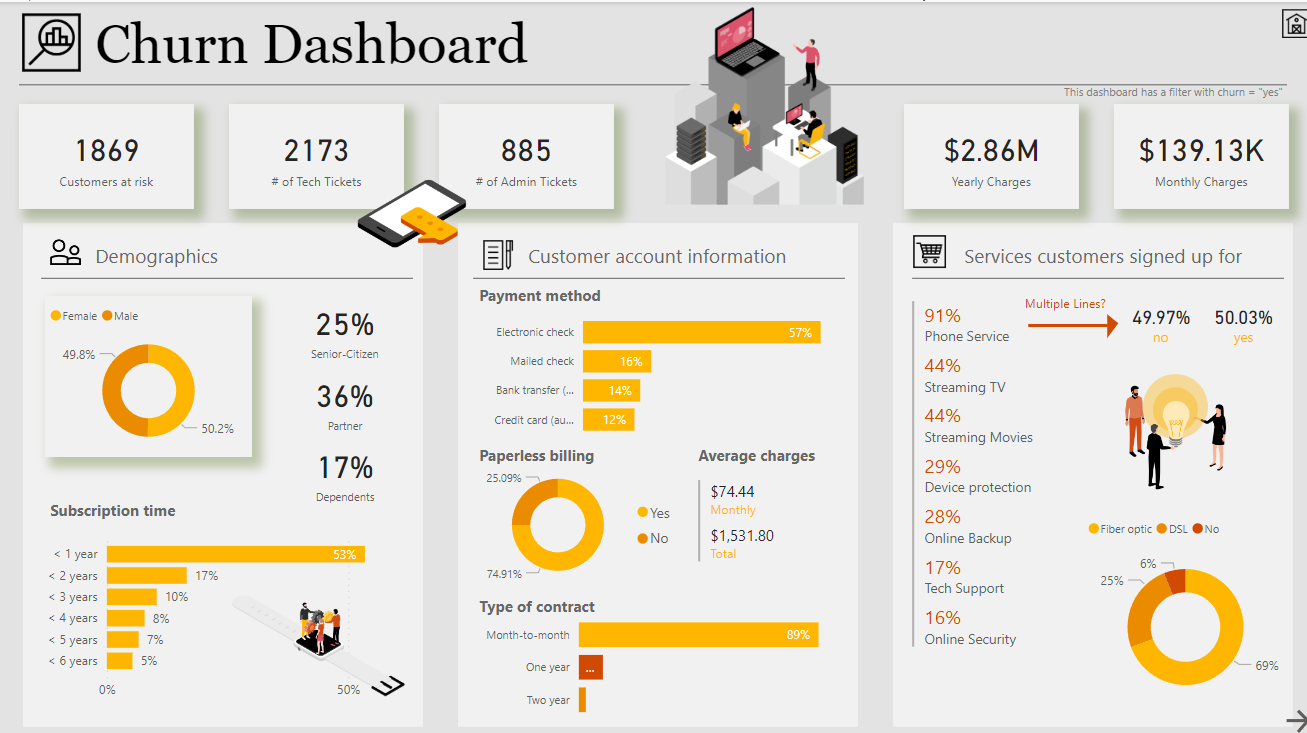

Layout of this report page (visuals, bound fields, positions):
{"tool":"powerbi","page":{"name":"Churn","canvas":[1280,720],"ordinal":1},"visuals":[{"type":"textbox","box":[87.7,4.9,1173.8,75],"z":0},{"type":"basicShape","box":[8.7,60.7,1253,40.5],"z":1000},{"type":"basicShape","box":[18.3,210,396.8,499.9],"z":2000},{"type":"card","fields":{"Values":["CountNonNull(churn.customerID)"]},"box":[18.5,99.4,170,102.3],"z":3000},{"type":"basicShape","box":[441.6,210,396.8,499.9],"z":4000},{"type":"basicShape","box":[864.9,210,396.8,499.9],"z":5000},{"type":"textbox","box":[508.5,228.6,314.9,35.6],"z":6000},{"type":"basicShape","box":[450.7,248.9,381.4,39.5],"z":7000},{"type":"image","box":[461.3,226.3,47.2,39.5],"z":8000},{"type":"textbox","box":[932.7,228.6,314.9,35.6],"z":9000},{"type":"basicShape","box":[877.4,248.9,381.4,39.5],"z":10000},{"type":"textbox","box":[88,228.6,314.9,35.6],"z":11000},{"type":"basicShape","box":[30.2,248.9,381.4,39.5],"z":12000},{"type":"image","box":[883.2,220.6,42.4,43.3],"z":13000},{"type":"image","box":[43.3,220.6,40.5,44.3],"z":14000},{"type":"donutChart","fields":{"Category":["churn.gender"],"Y":["CountNonNull(churn.gender)"]},"box":[43.8,286,201.3,156.6],"z":15000},{"type":"card","fields":{"Values":["churn.SeniorCitizen in %"]},"box":[271.4,268.7,128.1,100.2],"z":16000},{"type":"card","fields":{"Values":["churn.Partner in %"]},"box":[271.4,338.1,128.4,100.2],"z":17000},{"type":"card","fields":{"Values":["churn.Dependents in %"]},"box":[271.4,407.5,128.4,100.2],"z":18000},{"type":"clusteredBarChart","fields":{"Category":["churn.Contract"],"Y":["CountNonNull(churn.Contract)"]},"box":[461.3,577.9,370.8,131.9],"z":19000},{"type":"clusteredBarChart","fields":{"Y":["CountNonNull(churn.PaymentMethod)"],"Category":["churn.PaymentMethod"]},"box":[461.3,286,370.8,148.3],"z":20000},{"type":"textbox","box":[461.3,269.7,314.9,35.6],"z":21000},{"type":"textbox","box":[461.3,424.7,204.2,35.6],"z":22000},{"type":"donutChart","fields":{"Category":["churn.PaperlessBilling"],"Y":["CountNonNull(churn.PaperlessBilling)"]},"box":[461.3,438.2,204.2,139.7],"z":23000},{"type":"multiRowCard","fields":{"Values":["Avg(churn.MonthlyCharges)","Avg(churn.TotalCharges)"]},"box":[674.2,460.4,149.3,95.3],"z":24000},{"type":"textbox","box":[461.3,572.1,314.9,35.6],"z":25000},{"type":"donutChart","fields":{"Category":["churn.InternetService"],"Y":["Divide(CountNonNull(churn.InternetService), ScopedEval(CountNonNull(churn.InternetService), []))"]},"box":[1053.4,493.1,199.4,202.3],"z":26000},{"type":"card","fields":{"Values":["churn.Multiple Lines in %"]},"box":[1172.8,276.4,72.2,62.6],"z":27000},{"type":"card","fields":{"Values":["churn.Multiple lines no in %"]},"box":[1093.1,276.4,72.2,61.6],"z":28000},{"type":"textbox","box":[971.7,278.2,129.4,27.2],"z":29000},{"type":"textbox","box":[1092.2,311,73.2,35.6],"z":30000},{"type":"textbox","box":[1172.8,311,73.2,35.6],"z":31000},{"type":"textbox","box":[674.2,424.7,148.3,35.6],"z":32000},{"type":"multiRowCard","fields":{"Values":["churn.Phone Service in %","churn.Streaming TV in %","churn.Streaming Movies in %","churn.Device protection in %","churn.Online Bacup in %","churn.Tech Support in %","churn.Online Sec. in %"]},"box":[882.2,286,165.3,414.3],"z":33000},{"type":"basicShape","box":[990.2,300.5,97.3,28.2],"z":34000},{"type":"basicShape","box":[1063.1,296.7,37.9,32.1],"z":35000},{"type":"clusteredBarChart","fields":{"Y":["CountNonNull(churn.Churn)"],"Category":["churn.Loyalty"]},"box":[37,507.7,365.7,179],"z":36000},{"type":"textbox","box":[43.8,478.5,314.2,35],"z":37000},{"type":"image","box":[1048.2,356.5,190.9,121.8],"z":38000},{"type":"actionButton","box":[1246.1,680.1,31.6,39.5],"z":39000},{"type":"image","box":[16.6,4.9,67.2,68.2],"z":40000},{"type":"card","fields":{"Values":["Sum(churn.MonthlyCharges)"]},"box":[1083.9,99.4,170,102.3],"z":41000},{"type":"image","box":[634.9,0,216.9,202.2],"z":42000},{"type":"image","box":[221.1,556.2,178.3,139.3],"z":43000},{"type":"card","fields":{"Values":["Sum(churn.numTechTickets)"]},"box":[222.8,99.4,170,102.3],"z":44000},{"type":"card","fields":{"Values":["Sum(churn.numAdminTickets)"]},"box":[427.1,99.4,170,102.3],"z":45000},{"type":"card","fields":{"Values":["Sum(churn.TotalCharges)"]},"box":[879.7,99.4,170,102.3],"z":46000},{"type":"textbox","box":[897,72.3,355.9,30.5],"z":47000},{"type":"image","box":[341.9,151,115.9,108.1],"z":48000},{"type":"image","box":[1242,0,38,42.9],"z":49000}]}

Visuals, with their boxes in screenshot pixels (x1, y1, x2, y2), scaled from the page's 1280x720 canvas onto the 1307x733 screenshot:
textbox: x1=90 y1=5 x2=1288 y2=81
basicShape: x1=9 y1=62 x2=1288 y2=103
basicShape: x1=19 y1=214 x2=424 y2=723
card - CountNonNull(churn.customerID): x1=19 y1=101 x2=192 y2=205
basicShape: x1=451 y1=214 x2=856 y2=723
basicShape: x1=883 y1=214 x2=1288 y2=723
textbox: x1=519 y1=233 x2=841 y2=269
basicShape: x1=460 y1=253 x2=850 y2=294
image: x1=471 y1=230 x2=519 y2=271
textbox: x1=952 y1=233 x2=1274 y2=269
basicShape: x1=896 y1=253 x2=1285 y2=294
textbox: x1=90 y1=233 x2=411 y2=269
basicShape: x1=31 y1=253 x2=420 y2=294
image: x1=902 y1=225 x2=945 y2=269
image: x1=44 y1=225 x2=86 y2=270
donutChart - churn.gender x CountNonNull(churn.gender): x1=45 y1=291 x2=250 y2=451
card - churn.SeniorCitizen in %: x1=277 y1=274 x2=408 y2=376
card - churn.Partner in %: x1=277 y1=344 x2=408 y2=446
card - churn.Dependents in %: x1=277 y1=415 x2=408 y2=517
clusteredBarChart - churn.Contract x CountNonNull(churn.Contract): x1=471 y1=588 x2=850 y2=723
clusteredBarChart - CountNonNull(churn.PaymentMethod) x churn.PaymentMethod: x1=471 y1=291 x2=850 y2=442
textbox: x1=471 y1=275 x2=793 y2=311
textbox: x1=471 y1=432 x2=680 y2=469
donutChart - churn.PaperlessBilling x CountNonNull(churn.PaperlessBilling): x1=471 y1=446 x2=680 y2=588
multiRowCard - Avg(churn.MonthlyCharges) x Avg(churn.TotalCharges): x1=688 y1=469 x2=841 y2=566
textbox: x1=471 y1=582 x2=793 y2=619
donutChart - churn.InternetService x Divide(CountNonNull(churn.InternetService), ScopedEval(CountNonNull(churn.InternetService), [])): x1=1076 y1=502 x2=1279 y2=708
card - churn.Multiple Lines in %: x1=1198 y1=281 x2=1271 y2=345
card - churn.Multiple lines no in %: x1=1116 y1=281 x2=1190 y2=344
textbox: x1=992 y1=283 x2=1124 y2=311
textbox: x1=1115 y1=317 x2=1190 y2=353
textbox: x1=1198 y1=317 x2=1272 y2=353
textbox: x1=688 y1=432 x2=840 y2=469
multiRowCard - churn.Phone Service in % x churn.Streaming TV in %: x1=901 y1=291 x2=1070 y2=713
basicShape: x1=1011 y1=306 x2=1110 y2=335
basicShape: x1=1086 y1=302 x2=1124 y2=335
clusteredBarChart - CountNonNull(churn.Churn) x churn.Loyalty: x1=38 y1=517 x2=411 y2=699
textbox: x1=45 y1=487 x2=366 y2=523
image: x1=1070 y1=363 x2=1265 y2=487
actionButton: x1=1272 y1=692 x2=1305 y2=732
image: x1=17 y1=5 x2=86 y2=74
card - Sum(churn.MonthlyCharges): x1=1107 y1=101 x2=1280 y2=205
image: x1=648 y1=0 x2=870 y2=206
image: x1=226 y1=566 x2=408 y2=708
card - Sum(churn.numTechTickets): x1=227 y1=101 x2=401 y2=205
card - Sum(churn.numAdminTickets): x1=436 y1=101 x2=610 y2=205
card - Sum(churn.TotalCharges): x1=898 y1=101 x2=1072 y2=205
textbox: x1=916 y1=74 x2=1279 y2=105
image: x1=349 y1=154 x2=467 y2=264
image: x1=1268 y1=0 x2=1306 y2=44
